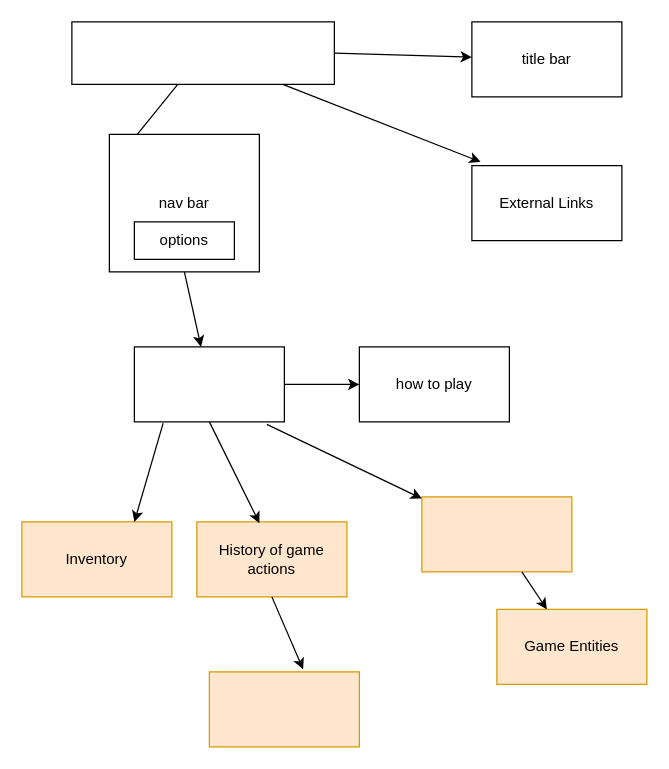
Some shapes in this 669 by 769 pixel diagram are drawn without their labels. Here are the shapes that lost their labels. From the top down, the centre of each, then its label:
At pixel 202 52: "app".
At pixel 208 384: "Game".
At pixel 496 534: "Game Level".
At pixel 283 709: "game action list items".
